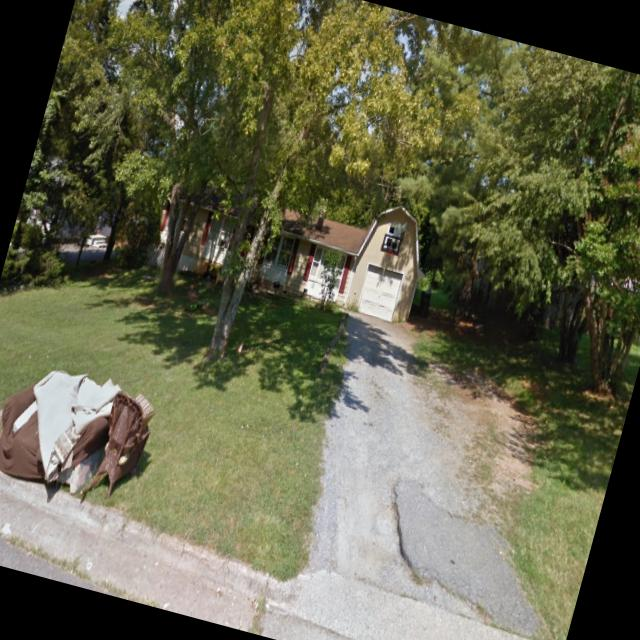House: (148, 147, 436, 334)
